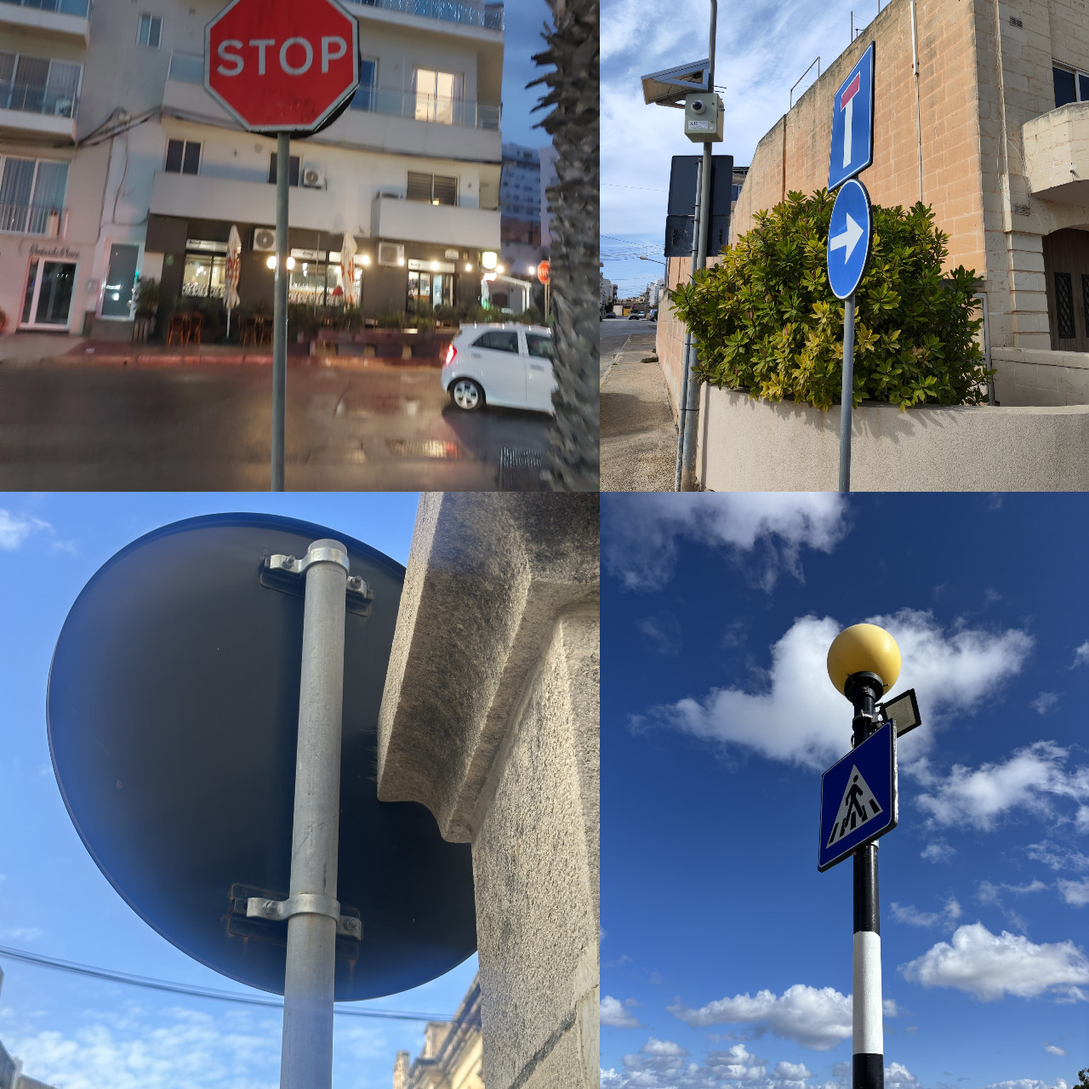Back-Unknown: (47, 510, 478, 1001), (255, 89, 358, 140), (667, 155, 733, 215), (664, 216, 730, 257)
Directional Sign: (826, 179, 872, 301)
No Through Road T-Junction: (827, 41, 875, 193)
Pedestrian Crossing: (818, 718, 899, 872)
Stop Sign: (204, 0, 360, 134), (538, 260, 551, 284)
